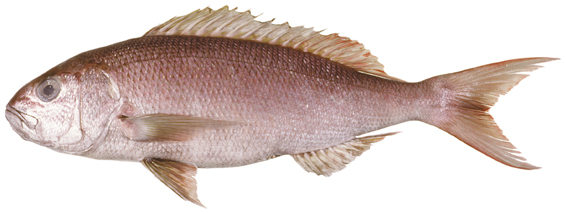fish: (5, 5, 562, 207)
